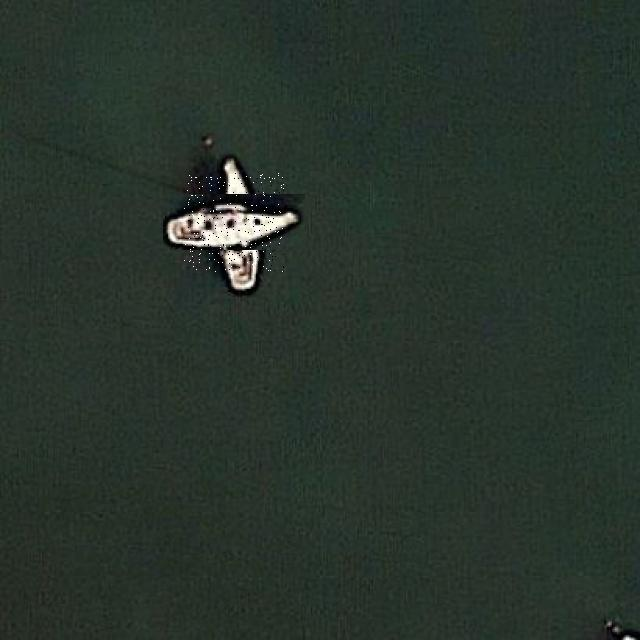boat: (184, 173, 284, 272)
